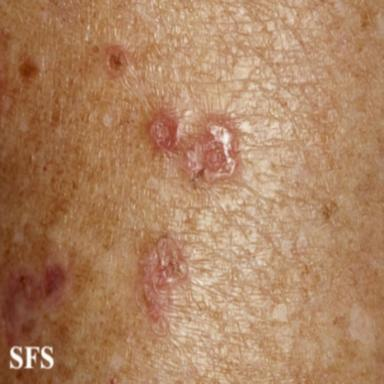Porokeratosis: (1, 264, 70, 345), (137, 234, 189, 335), (186, 116, 238, 182), (149, 112, 179, 153), (106, 45, 127, 78)
